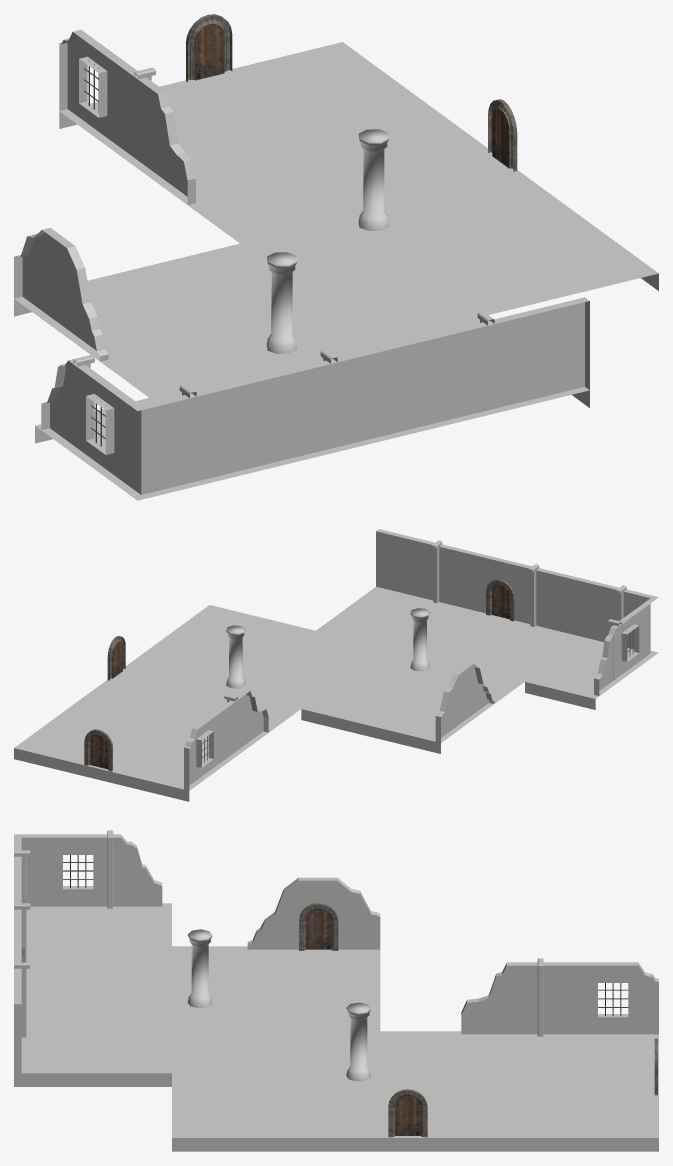
File: def009_room.fbx
3 views of the same model, one above another, from view 1: azimuth 30°, elevation 25°; view 2: azimuth 150°, elevation 25°; view 3: azimuth 270°, elevation 25° (orthographic). The views are drawn at different scales.
Visible parts, largest first — view 1: def009_floor, wall009_4, pillar_002.020, pillar_002.019, door_wood.036, door_stone.036, door_stone.035, door_wood.035; view 2: def009_floor, wall009_4, pillar_002.019, pillar_002.020, door_wood.033, door_wood.036, door_stone.033, door_stone.036, pillar_001.056, pillar_001.057; view 3: def009_floor, wall009_4, pillar_002.020, pillar_002.019, door_wood.034, door_wood.035, door_stone.034, door_stone.035, pillar_001.059, pillar_001.060, pillar_001.056.
Boxes of the visible parts, x1,y1,x2,y2 form: def009_floor: (14,42,658,500); wall009_4: (14,29,589,494); pillar_002.020: (358,129,389,230); pillar_002.019: (266,252,297,353); door_wood.036: (195,23,224,80); door_stone.036: (186,14,232,81); door_stone.035: (488,99,517,171); door_wood.035: (492,108,509,168); def009_floor: (14,586,658,801); wall009_4: (184,529,658,790); pillar_002.019: (410,608,429,671); pillar_002.020: (226,625,245,688); door_wood.033: (492,584,509,619); door_wood.036: (90,734,107,769); door_stone.033: (486,579,514,621); door_stone.036: (84,729,112,771); pillar_001.056: (431,540,442,603); pillar_001.057: (528,564,539,626); def009_floor: (14,903,658,1151); wall009_4: (14,834,658,1073); pillar_002.020: (346,1002,370,1081); pillar_002.019: (187,929,212,1008); door_wood.034: (305,909,331,949); door_wood.035: (395,1095,420,1135); door_stone.034: (299,903,338,950); door_stone.035: (388,1089,427,1137); pillar_001.059: (107,830,113,908); pillar_001.060: (537,958,543,1036); pillar_001.056: (14,962,30,1037).
Size of the model in its own units: 3648 by 629 by 4241.
